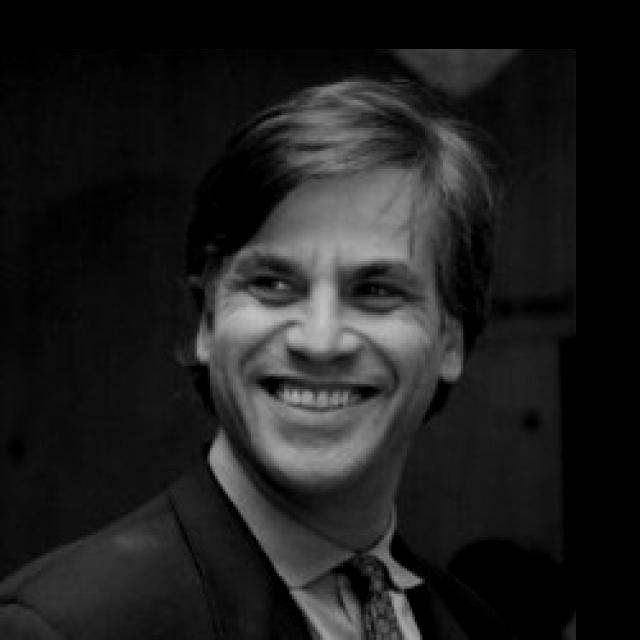real: (204, 147, 450, 490), (235, 245, 418, 325)
